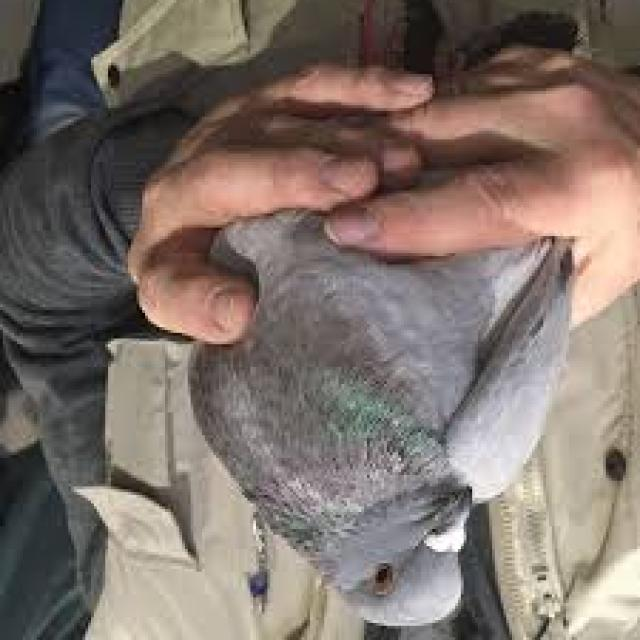pigeon: (186, 171, 640, 640)
